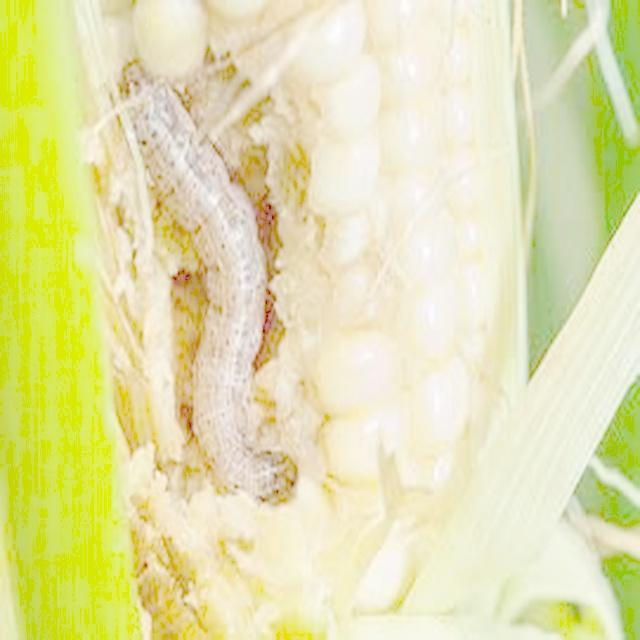gusano_cogollero: (113, 49, 280, 505)
